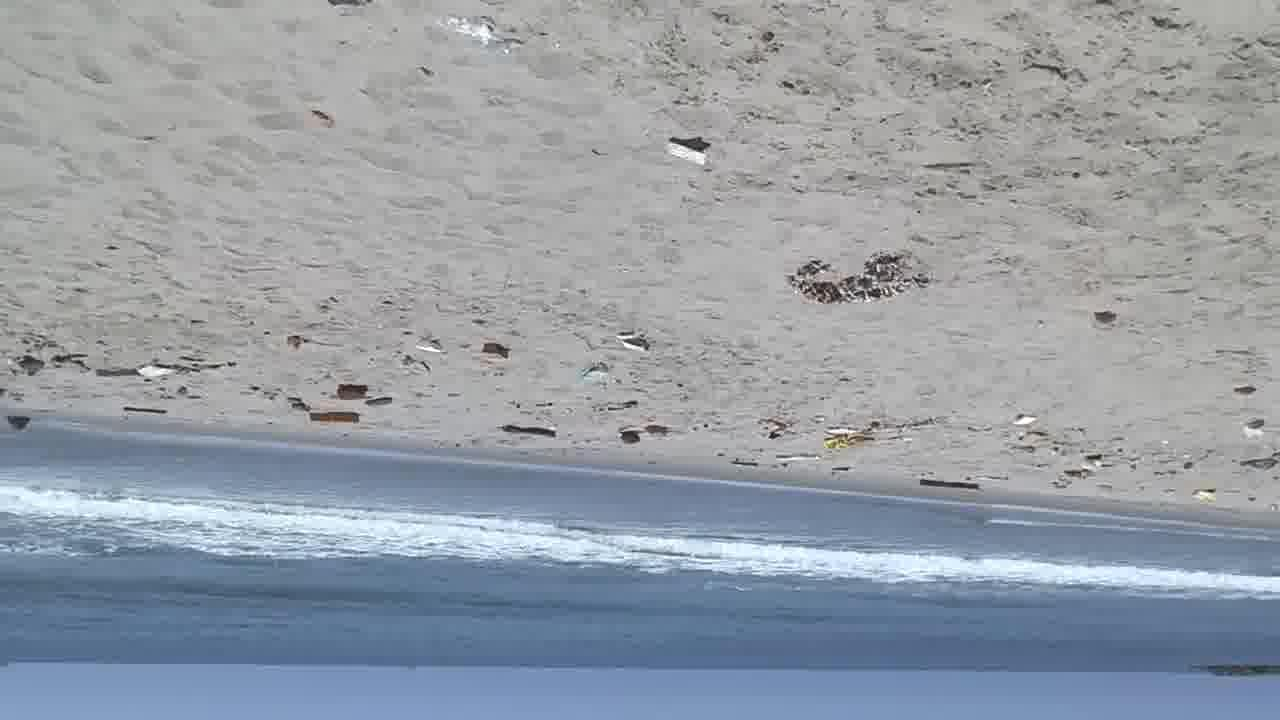obj: (780, 238, 936, 316), (439, 14, 554, 58), (666, 134, 709, 168), (496, 422, 561, 443), (614, 426, 676, 448), (822, 425, 872, 451), (574, 361, 614, 391), (471, 341, 514, 364), (306, 411, 359, 427), (918, 478, 980, 490), (335, 381, 369, 402), (134, 366, 174, 380), (1079, 451, 1107, 471), (1091, 312, 1119, 328), (1246, 419, 1268, 439), (1185, 487, 1222, 498), (122, 406, 166, 415), (92, 369, 138, 376), (1016, 410, 1036, 425), (1236, 385, 1258, 398)
sand/background: (1, 419, 1279, 719)
